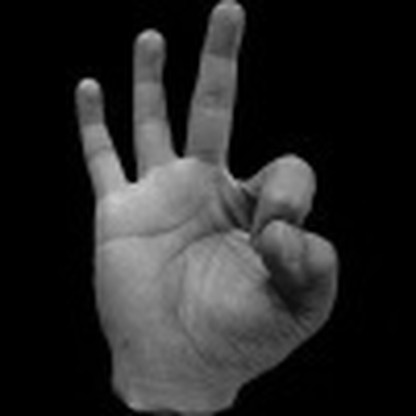f: (63, 1, 340, 385)
